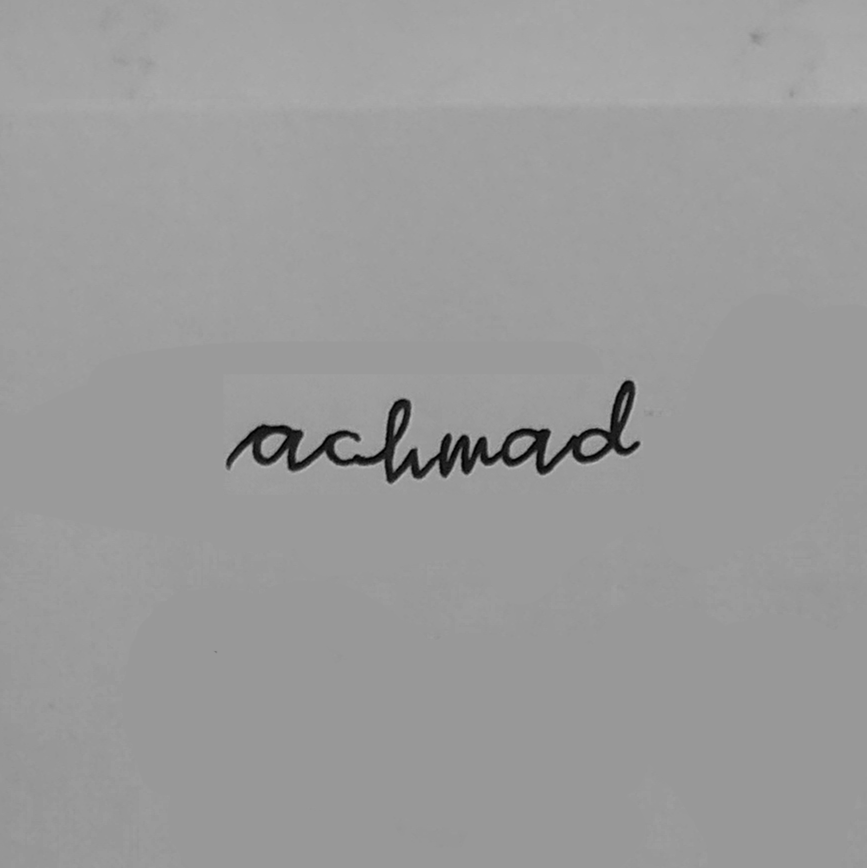a: (244, 420, 310, 475), (498, 424, 553, 478)
c: (321, 426, 365, 471)
d: (568, 376, 643, 467)
h: (381, 395, 423, 486)
m: (435, 428, 493, 480)
